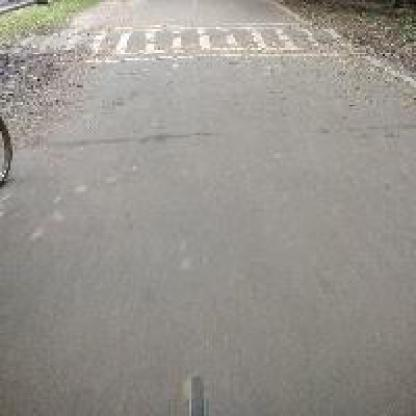Speed Bump: (79, 18, 333, 66)
